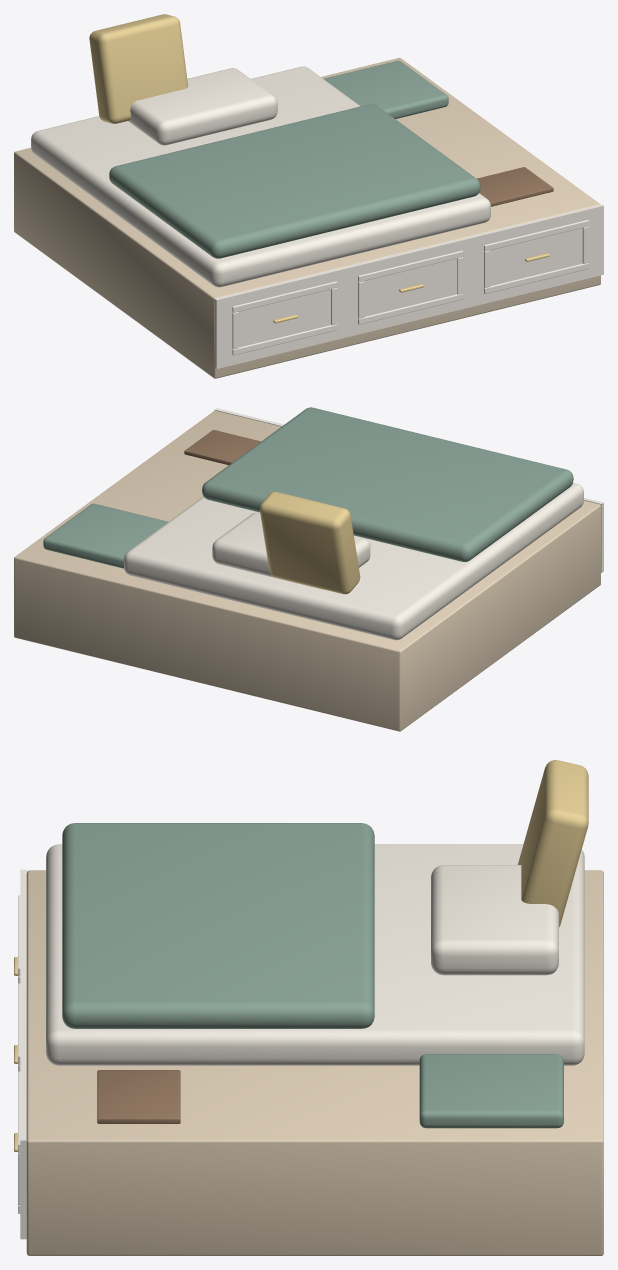
The model's file is tatami_platform.glb.
3 views of the same model, one above another, from view 1: azimuth 30°, elevation 25°; view 2: azimuth 150°, elevation 25°; view 3: azimuth 270°, elevation 25° (orthographic). The views are drawn at different scales.
Visible parts, largest first — view 1: platform, duvet, front, futon, cushion1, pillow, zabuton, pf1, pf0, pf2, tray; view 2: platform, duvet, futon, cushion1, zabuton, pillow, tray, front; view 3: platform, duvet, futon, pillow, zabuton, cushion1, tray, front.
Part boxes in pixels (box(x1,y1,x2,y2)): platform: box(14, 58, 600, 378); duvet: box(109, 104, 480, 258); front: box(214, 204, 603, 368); futon: box(31, 66, 490, 287); cushion1: box(89, 14, 188, 123); pillow: box(128, 68, 277, 145); zabuton: box(324, 60, 448, 118); pf1: box(358, 250, 463, 324); pf0: box(232, 281, 337, 355); pf2: box(484, 220, 588, 293); tray: box(477, 167, 553, 206); platform: box(14, 410, 600, 731); duvet: box(202, 407, 573, 561); futon: box(124, 483, 583, 640); cushion1: box(259, 491, 360, 594); zabuton: box(43, 503, 168, 568); pillow: box(212, 512, 370, 589); tray: box(184, 430, 260, 465); front: box(214, 408, 603, 572); platform: box(26, 870, 603, 1255); duvet: box(62, 823, 374, 1028); futon: box(46, 844, 584, 1065); pillow: box(431, 865, 558, 975); zabuton: box(419, 1054, 563, 1128); cushion1: box(517, 760, 588, 927); tray: box(97, 1070, 180, 1123); front: box(20, 869, 26, 1239).
Size of the model in its own units: 2 by 0.9531 by 1.84.
